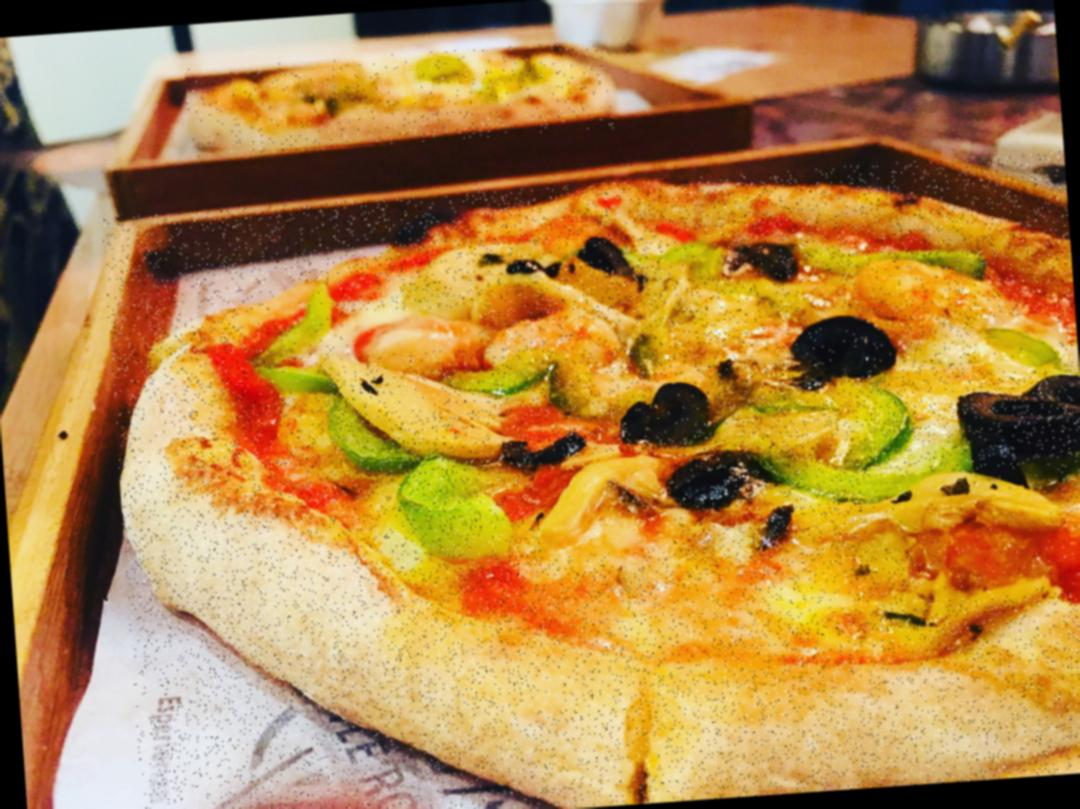Chicken: (328, 342, 554, 466), (474, 254, 638, 366), (860, 464, 1062, 550), (536, 449, 674, 557), (857, 256, 959, 316)
Olives: (959, 370, 1080, 483), (788, 304, 904, 388), (658, 441, 776, 522), (622, 380, 714, 437), (496, 426, 583, 472), (738, 237, 798, 279), (581, 234, 634, 272)
Peppers: (768, 371, 963, 493), (388, 441, 527, 554), (807, 219, 984, 284), (322, 394, 416, 483), (243, 280, 342, 357), (980, 312, 1061, 372), (247, 358, 337, 402), (660, 229, 722, 279)
Pizza: (101, 149, 1080, 809), (185, 40, 614, 158)
Tomatoes: (909, 515, 1080, 603), (346, 302, 503, 378), (494, 393, 623, 455)
